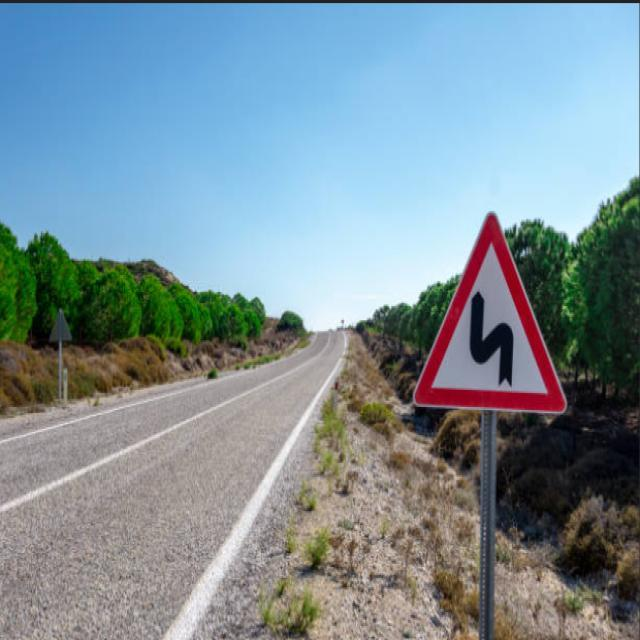warn_double_curve: (410, 210, 568, 416)
